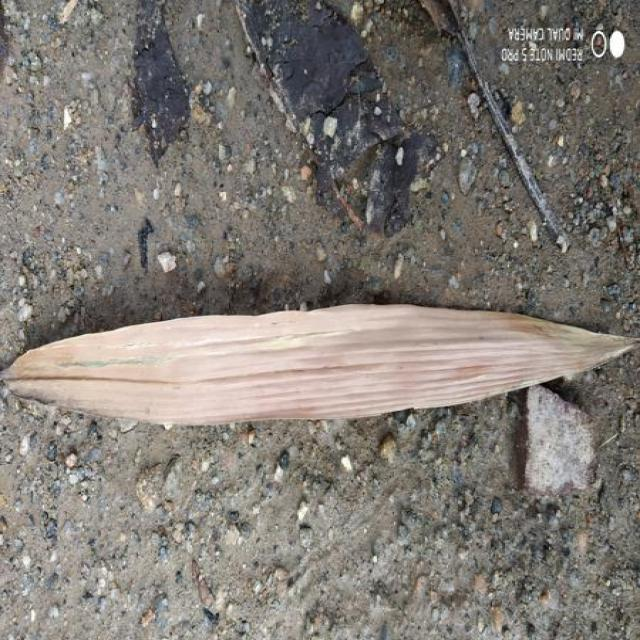Bamboo: (3, 304, 637, 424)
disease in leaf: (3, 305, 637, 424)
